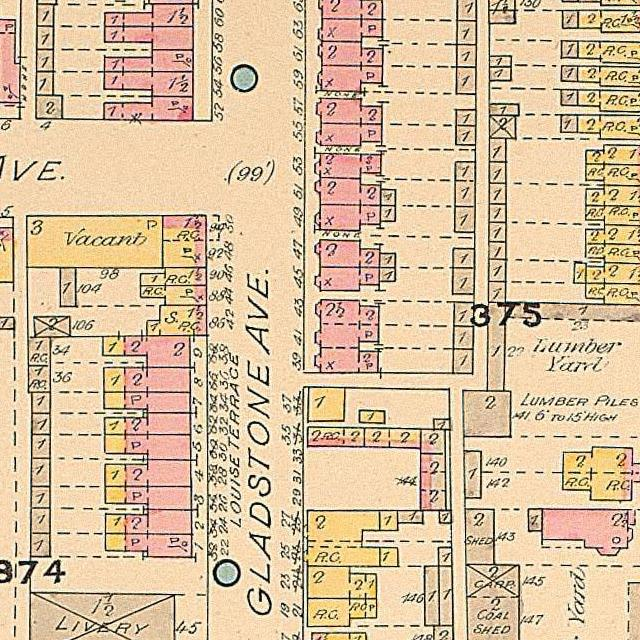building-footprints: (27, 216, 163, 268), (30, 593, 175, 640), (315, 300, 379, 373), (542, 509, 635, 555), (563, 447, 640, 500), (307, 511, 380, 566), (466, 565, 519, 640), (103, 335, 190, 368), (105, 460, 191, 487), (307, 566, 377, 599), (505, 305, 640, 322), (163, 215, 206, 268), (105, 509, 192, 535), (104, 72, 193, 97), (463, 391, 511, 437), (105, 533, 192, 558), (104, 435, 191, 460), (104, 97, 193, 121), (104, 368, 190, 392), (104, 27, 193, 50), (308, 429, 421, 447), (307, 598, 377, 627), (421, 430, 446, 511), (105, 4, 193, 27), (105, 487, 192, 510), (104, 50, 193, 72), (105, 413, 191, 435), (147, 305, 207, 336), (104, 392, 190, 413), (315, 178, 381, 205), (315, 240, 380, 267), (315, 205, 381, 231), (318, 66, 383, 92), (0, 19, 20, 103), (315, 154, 381, 179), (318, 41, 383, 66), (317, 99, 382, 124), (465, 509, 494, 564), (577, 115, 640, 140), (315, 267, 379, 291), (488, 302, 505, 391), (318, 19, 383, 42), (316, 124, 382, 146), (578, 41, 640, 64), (577, 90, 640, 112), (578, 10, 640, 32), (140, 285, 207, 305), (578, 66, 640, 87), (318, 0, 382, 19), (28, 337, 50, 392), (585, 283, 640, 305), (309, 387, 344, 421), (586, 164, 640, 186), (586, 185, 640, 207), (140, 268, 207, 285), (586, 263, 640, 284), (585, 225, 640, 245), (586, 145, 640, 165), (586, 244, 640, 264), (585, 206, 640, 225), (455, 162, 475, 207), (425, 566, 439, 626), (439, 566, 453, 625), (465, 452, 481, 498), (34, 317, 70, 337), (0, 228, 13, 282), (36, 95, 62, 119), (60, 268, 76, 307), (490, 116, 516, 138), (453, 268, 474, 294), (456, 67, 476, 94), (32, 458, 50, 486), (454, 302, 474, 327), (455, 207, 475, 232), (31, 508, 50, 533), (31, 533, 50, 557), (454, 349, 473, 373), (457, 21, 476, 45), (32, 434, 50, 458), (453, 248, 474, 268), (31, 486, 50, 508), (454, 327, 473, 349), (457, 45, 476, 67), (457, 0, 476, 21), (32, 413, 50, 435), (312, 633, 367, 640), (37, 71, 53, 95), (490, 138, 506, 162), (456, 126, 476, 145), (32, 392, 50, 413), (37, 4, 54, 26), (489, 281, 506, 303), (37, 26, 53, 49), (380, 511, 398, 531), (489, 183, 506, 204), (489, 162, 506, 183), (37, 49, 53, 71), (489, 260, 505, 282), (490, 104, 519, 116), (380, 548, 398, 567), (489, 222, 506, 242), (397, 510, 423, 523), (489, 11, 515, 24), (360, 410, 385, 423), (456, 110, 476, 126), (528, 509, 542, 531), (489, 204, 506, 222), (489, 242, 506, 259), (561, 115, 577, 132), (561, 66, 578, 82), (562, 41, 578, 58), (563, 10, 578, 28), (434, 626, 453, 640), (489, 0, 515, 10), (381, 189, 396, 206), (561, 90, 578, 105), (490, 68, 511, 80), (380, 206, 395, 222), (439, 548, 452, 566), (490, 56, 511, 67), (574, 264, 586, 283), (379, 267, 395, 281), (380, 253, 395, 267), (434, 419, 450, 430), (0, 318, 14, 329), (439, 511, 451, 523)
